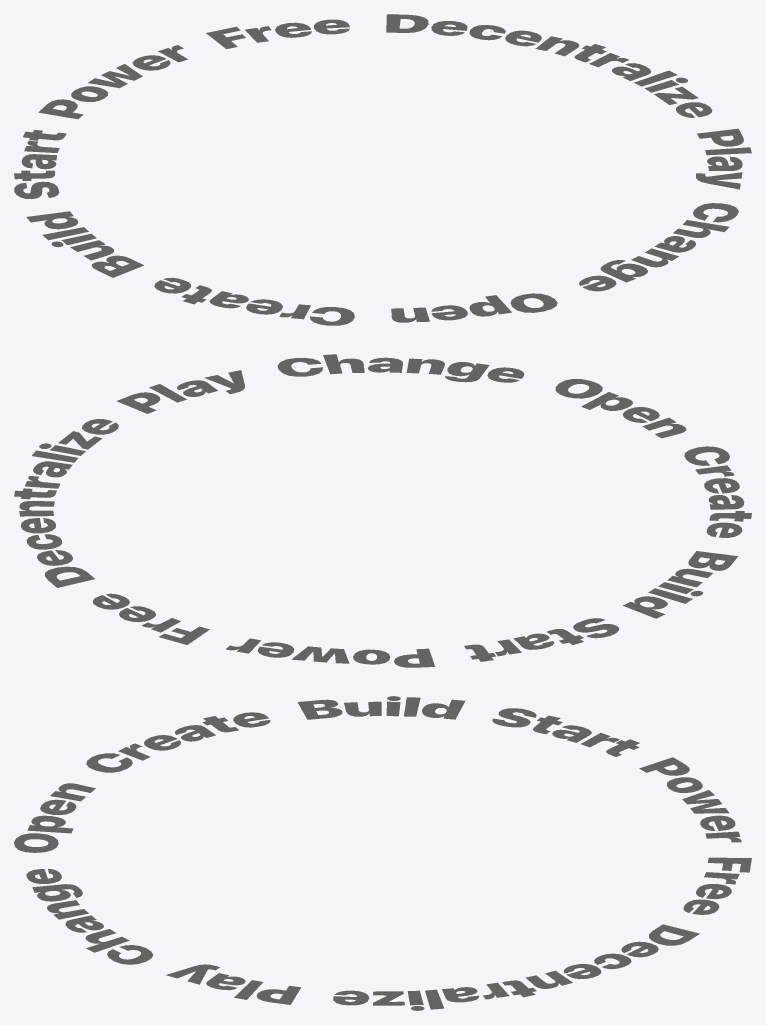
3 renders of one model, top to bottom at view 1: azimuth 30°, elevation 25°; view 2: azimuth 150°, elevation 25°; view 3: azimuth 270°, elevation 25°, orthographic.
Parts seen in each view (by area): view 1: Text_A; view 2: Text_A; view 3: Text_A.
Boxes of the visible parts, x1,y1,x2,y2 form: Text_A: [14, 14, 751, 325]; Text_A: [14, 354, 751, 667]; Text_A: [14, 696, 751, 1010].
Size of the model in its own units: 8.74 by 7.13e-08 by 8.66.
1 material, 1 textured.
